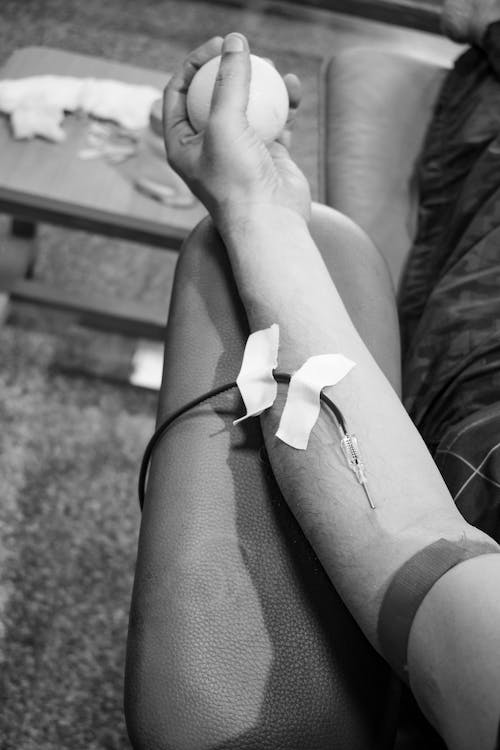blood: (136, 373, 348, 514)
